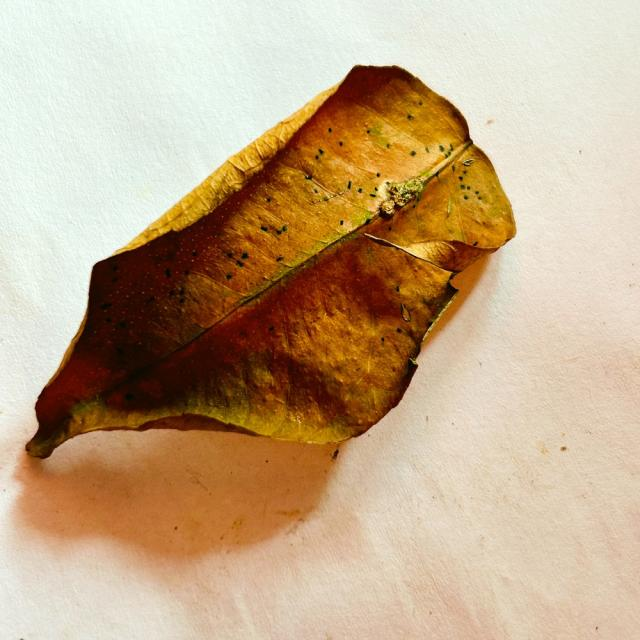DryLeaf_Lemon: (26, 66, 515, 458)
